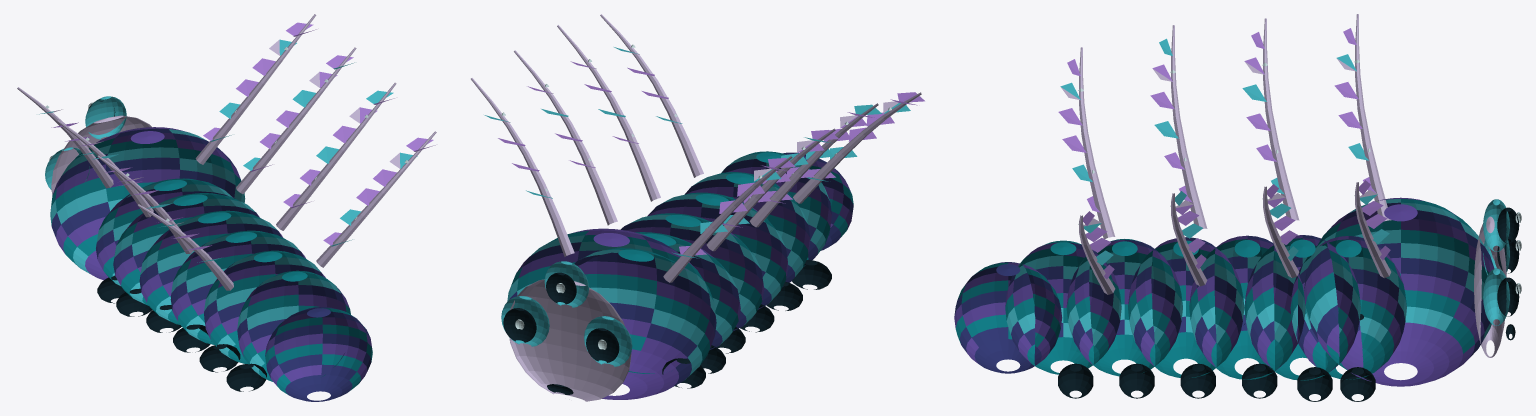
3 renders of one model, left to right at view 1: azimuth 30°, elevation 25°; view 2: azimuth 150°, elevation 25°; view 3: azimuth 270°, elevation 25°, orthographic. The views are drawn at different scales.
Size of the model in its own units: 0.6467 by 0.4959 by 0.925.
